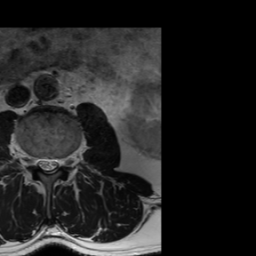CCS_stenosis: (43, 151, 51, 179)
LFS_normal: (59, 149, 67, 174)
LLS_normal: (51, 151, 59, 177)
RFS_normal: (28, 146, 35, 173)
RLS_normal: (35, 150, 43, 176)
